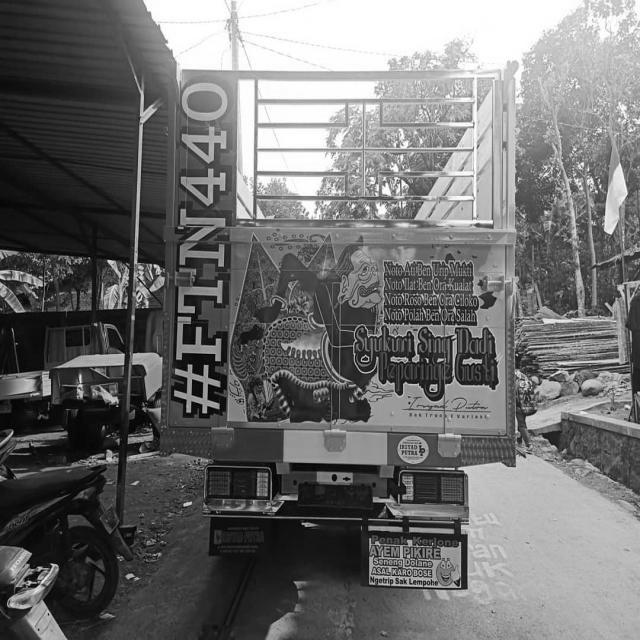truck: (139, 49, 537, 510)
